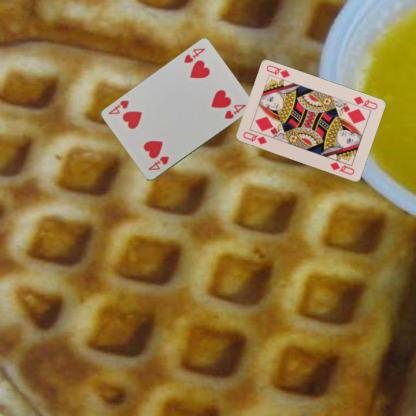4h: (181, 46, 206, 64), (146, 154, 170, 172)
Qd: (348, 94, 378, 112), (240, 130, 268, 146)
